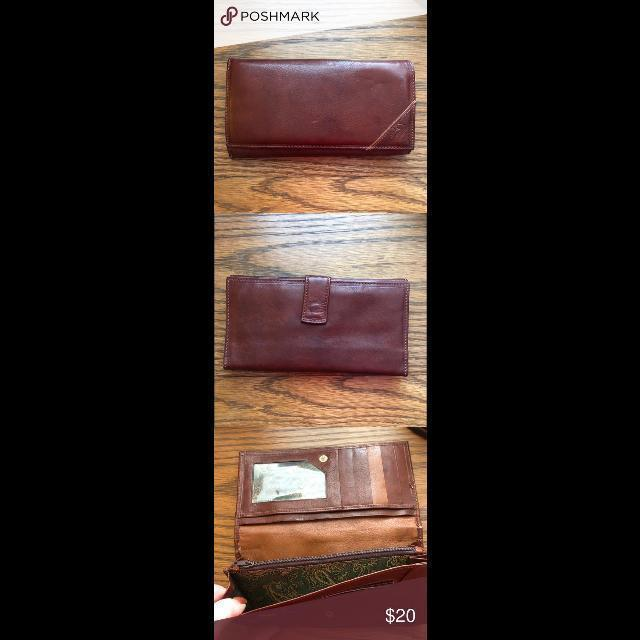wallet: (220, 438, 420, 604), (218, 52, 422, 160), (220, 265, 412, 379)
